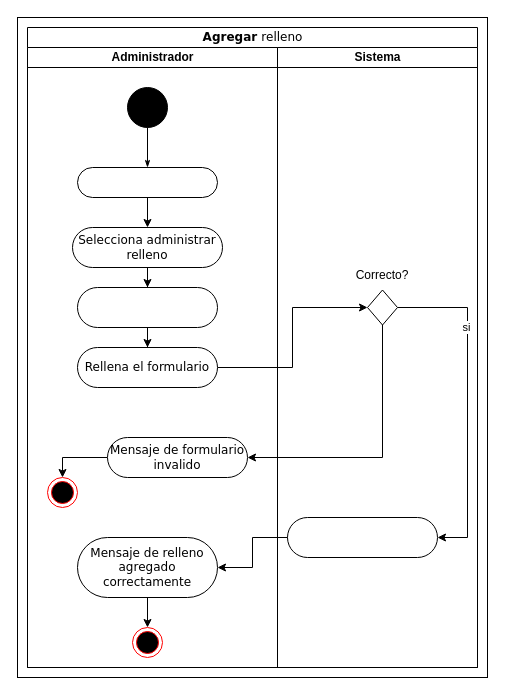
Some shapes in this 505 by 695 pixel diagram are drawn without their labels. Here are the shapes that lost their labels. From the top down, the centre of each, then its label:
At point (147, 182): "Usuario logueado".
At point (147, 307): "Selecciona agregar relleno".
At point (362, 537): "Agregar relleno nuevo".
